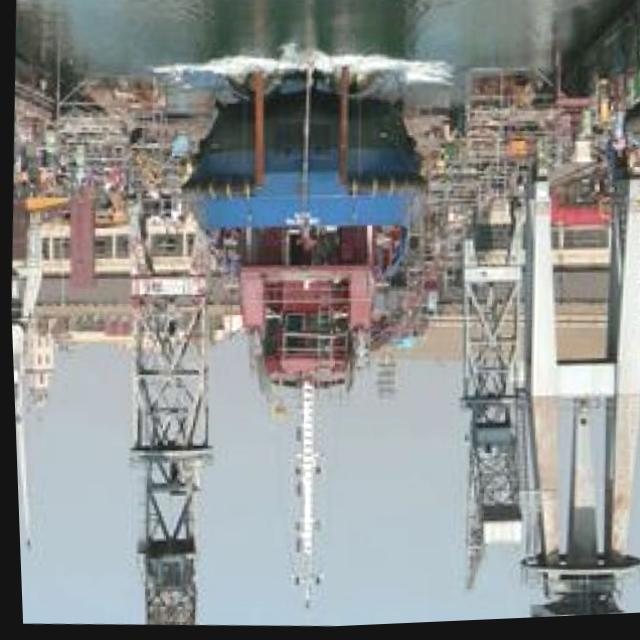ship2: (181, 67, 425, 614)
